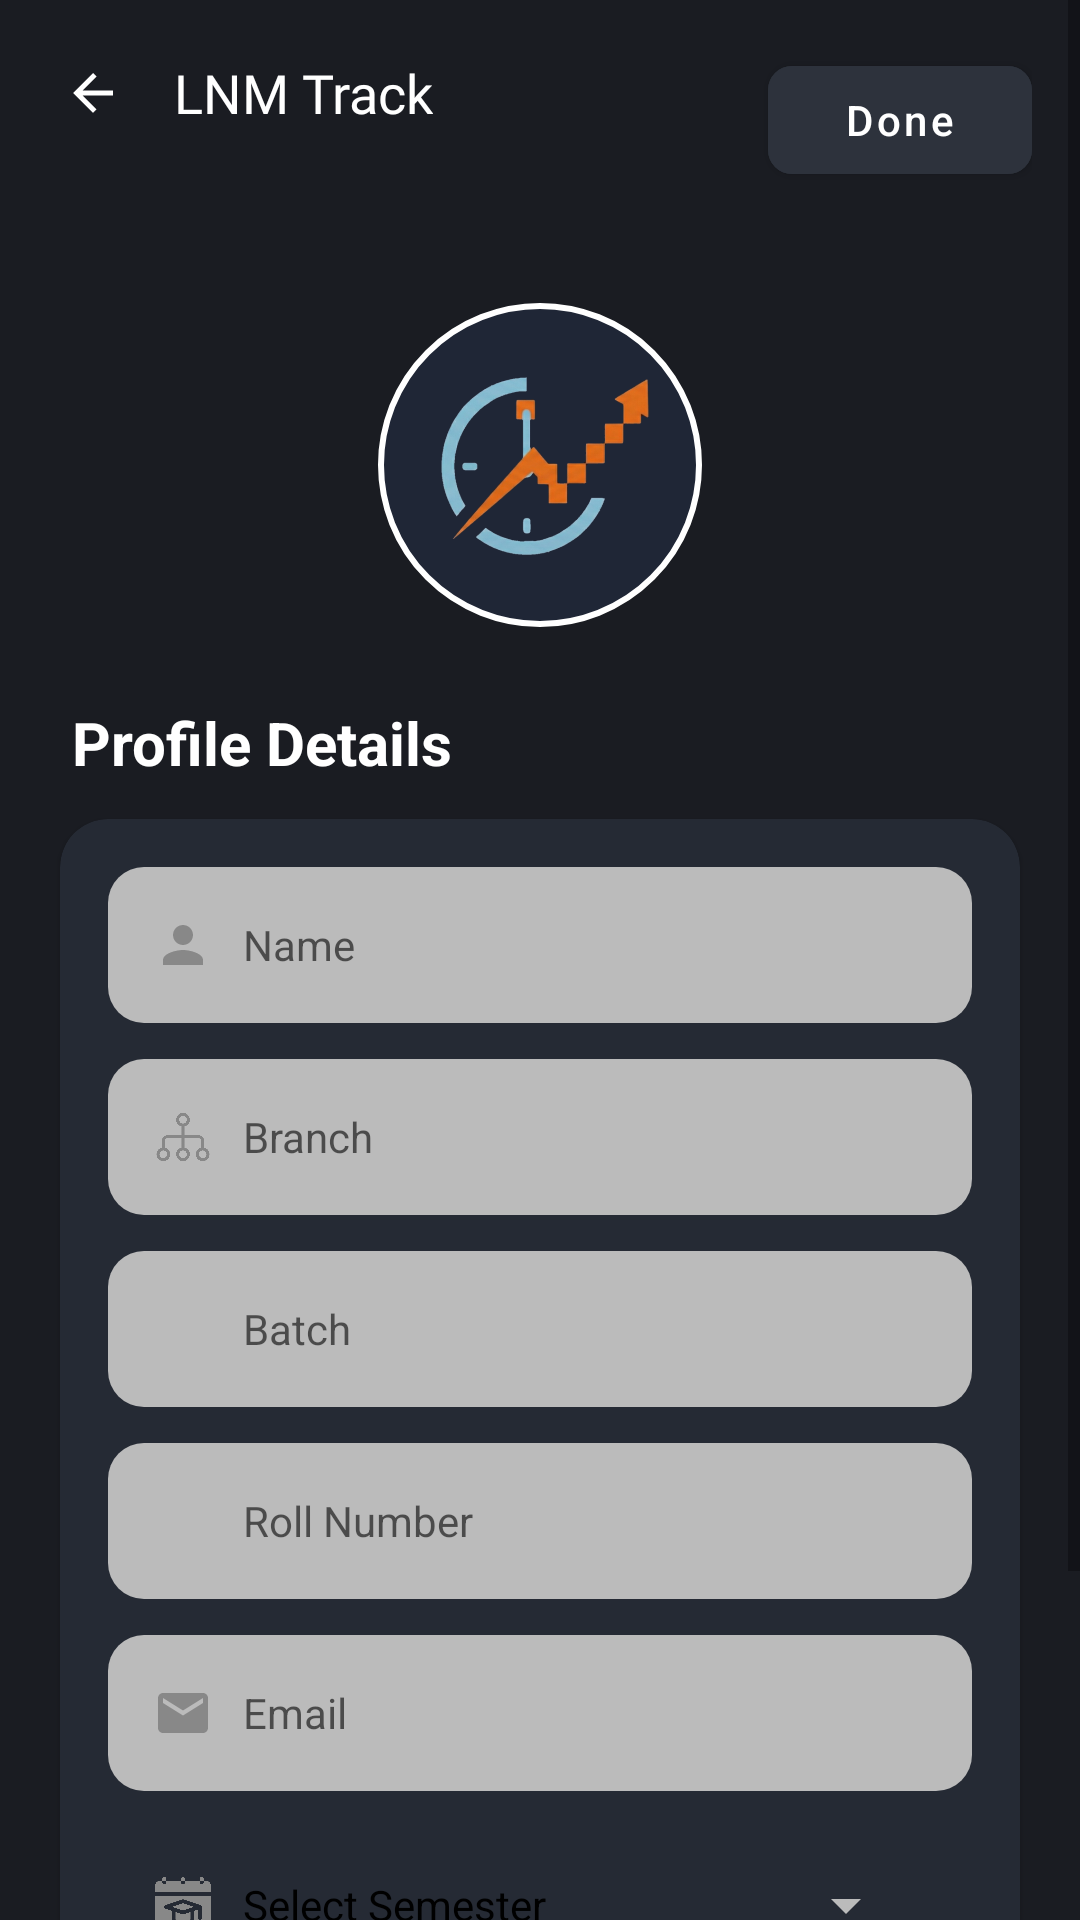

Named icons in this screenshot (1080 x 1920) and their centers, [x,y]:
back: [93,93]
user: [183,945]
